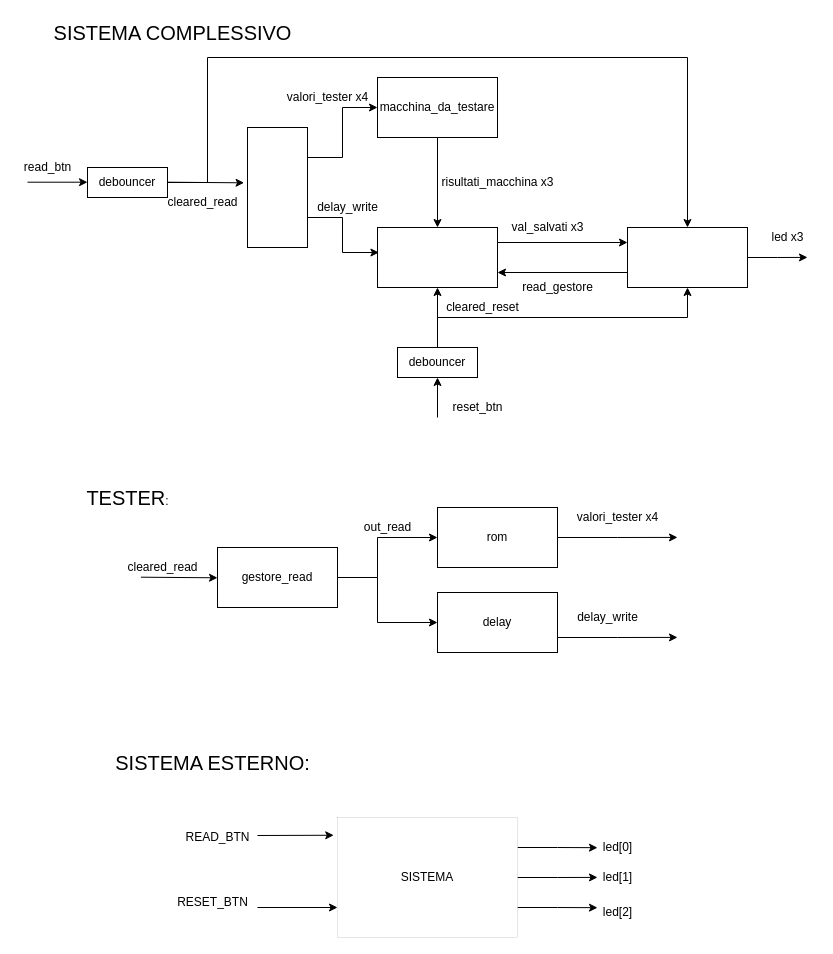
The diagram is 833 pixels wide and 954 high, and some of its shapes have lost their labels. Each missing label, with the centre of its shape:
"gestore_led" belongs at (x=687, y=257).
"memoria" belongs at (x=437, y=257).
"tester" belongs at (x=277, y=187).
